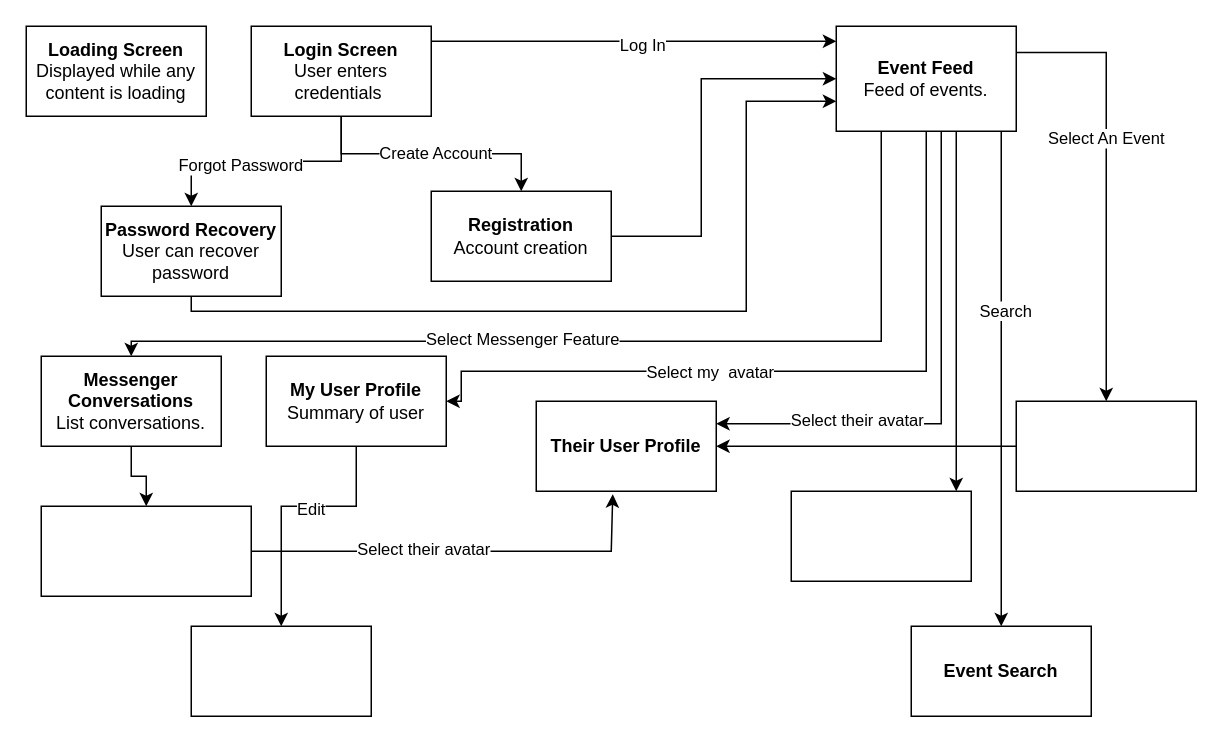
The diagram is 1223 pixels wide and 743 high, and some of its shapes have lost their labels. The centre of each missing label's shape, as x and y in pixels:
Event Creation User Creates an Event: [880,535]
Event Detail Page Feed of events.: [1105,445]
Single Conversation Send and recieve messages: [145,550]
User Details Edit: [280,670]
